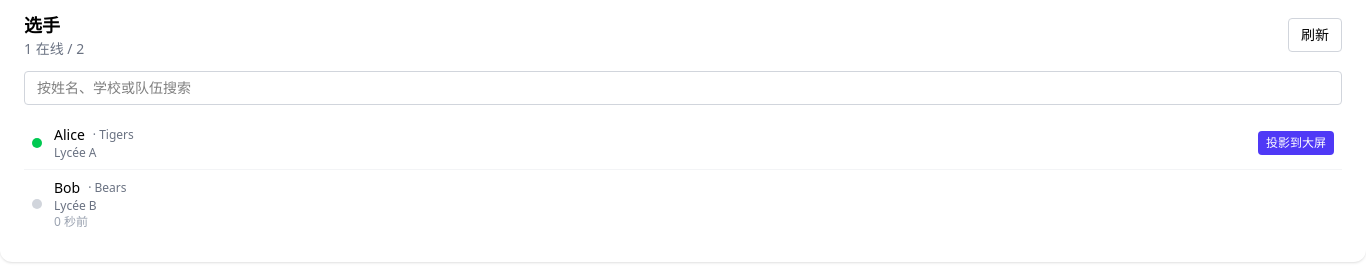
Test: JudgeMonitoringPanel — search filters the list › narrows the list by name when the search box is typed into
Expected: the text "Alice" is shown, [54,125,85,145]
Expected: the text "Bob" is shown, [54,178,80,198]
# Type "ali" — only Alice should remain.
Type "ali" into the field with placeholder "按姓名、学校或队伍搜索" at (683, 88), box [24,71,1342,105]
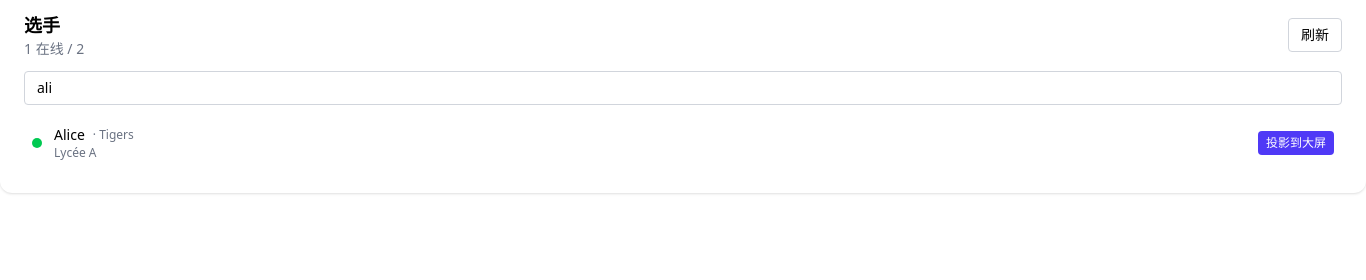
Expected: the text "Alice" is shown, [54,125,85,145]
Result: the text "Bob" is gone
